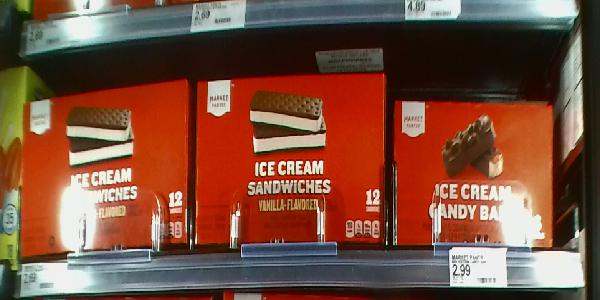icecream: (198, 69, 384, 254), (23, 80, 189, 256), (393, 97, 555, 251)
